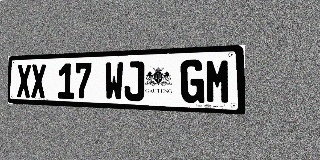1: (58, 63, 74, 99)
7: (75, 63, 92, 100)
G: (180, 59, 204, 103)
J: (124, 61, 144, 101)
M: (205, 58, 231, 104)
W: (105, 62, 123, 101)
X: (31, 64, 46, 98), (17, 64, 31, 98)
